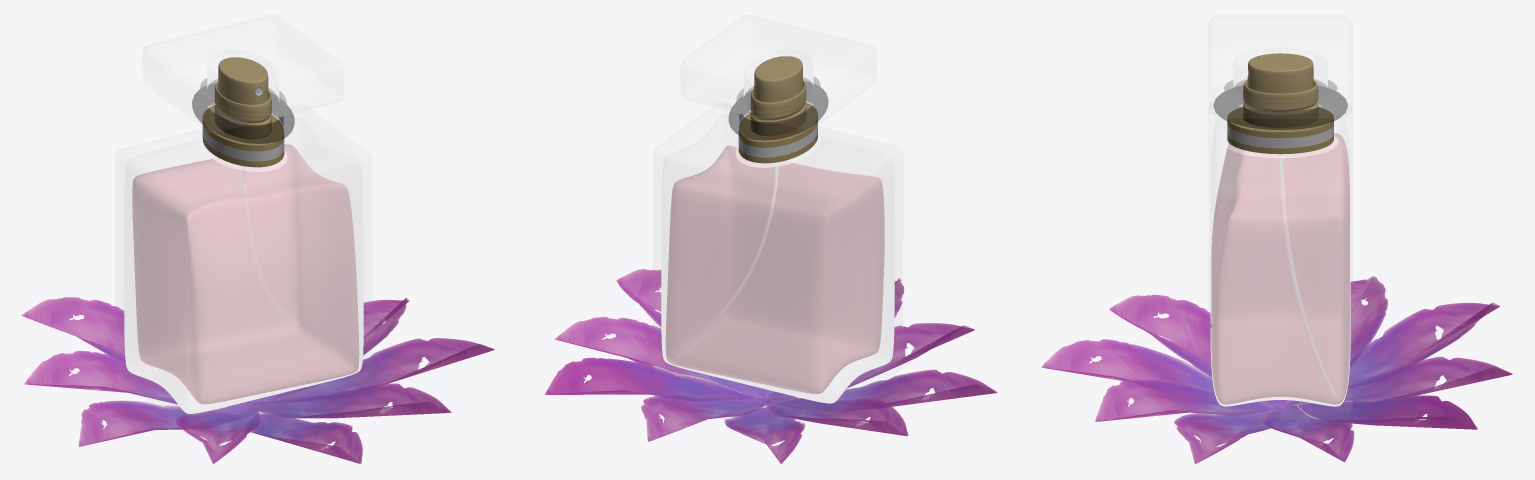
The model's file is perfume.glb.
The picture shows the model from 3 angles, left to right: view 1: azimuth 30°, elevation 25°; view 2: azimuth 150°, elevation 25°; view 3: azimuth 270°, elevation 25°; orthographic projection. The views are drawn at different scales.
Visible parts, largest first — view 1: Object_6, pPlane10, pPlane9, pPlane5, pPlane4, pPlane6, pPlane8, Object_13, pPlane7, Object_15, Object_4, Object_16 (+3 smaller); view 2: Object_6, pPlane1, pPlane11, pPlane6, pPlane5, pPlane3, Object_13, pPlane7, pPlane4, Object_15, Object_4, pPlane2 (+4 smaller); view 3: Object_6, pPlane4, pPlane8, pPlane7, pPlane9, pPlane3, pPlane1, Object_13, pPlane10, Object_15, pPlane11, Object_4 (+5 smaller).
Boxes of the visible parts, left/top/right/bottom form: Object_6: left=132, top=144, right=359, bottom=404; pPlane10: left=265, top=338, right=494, bottom=402; pPlane9: left=249, top=383, right=451, bottom=418; pPlane5: left=24, top=351, right=248, bottom=407; pPlane4: left=21, top=297, right=125, bottom=359; pPlane6: left=78, top=400, right=211, bottom=446; pPlane8: left=251, top=413, right=362, bottom=463; Object_13: left=192, top=78, right=294, bottom=143; pPlane7: left=175, top=406, right=261, bottom=463; Object_15: left=214, top=81, right=271, bottom=139; Object_4: left=218, top=57, right=268, bottom=104; Object_16: left=202, top=106, right=284, bottom=167; Object_6: left=665, top=145, right=884, bottom=394; pPlane1: left=545, top=358, right=757, bottom=401; pPlane11: left=555, top=317, right=767, bottom=401; pPlane6: left=799, top=369, right=997, bottom=408; pPlane5: left=766, top=397, right=908, bottom=436; pPlane3: left=641, top=393, right=772, bottom=441; Object_13: left=729, top=77, right=828, bottom=140; pPlane7: left=767, top=323, right=974, bottom=400; pPlane4: left=724, top=405, right=805, bottom=463; Object_15: left=750, top=80, right=806, bottom=136; Object_4: left=754, top=56, right=802, bottom=102; pPlane2: left=545, top=358, right=757, bottom=400; Object_6: left=1211, top=133, right=1349, bottom=404; pPlane4: left=1347, top=302, right=1499, bottom=389; pPlane8: left=1041, top=339, right=1213, bottom=392; pPlane7: left=1109, top=294, right=1286, bottom=407; pPlane9: left=1095, top=379, right=1287, bottom=421; pPlane3: left=1286, top=356, right=1512, bottom=409; pPlane1: left=1298, top=395, right=1477, bottom=429; Object_13: left=1213, top=79, right=1347, bottom=129; pPlane10: left=1174, top=410, right=1281, bottom=463; Object_15: left=1243, top=80, right=1318, bottom=127; pPlane11: left=1260, top=405, right=1354, bottom=462; Object_4: left=1247, top=53, right=1313, bottom=93.
Size of what is drawn, in the model's own units: 1.51 by 1.27 by 1.52.
Materials: 8 (2 with a texture image).
